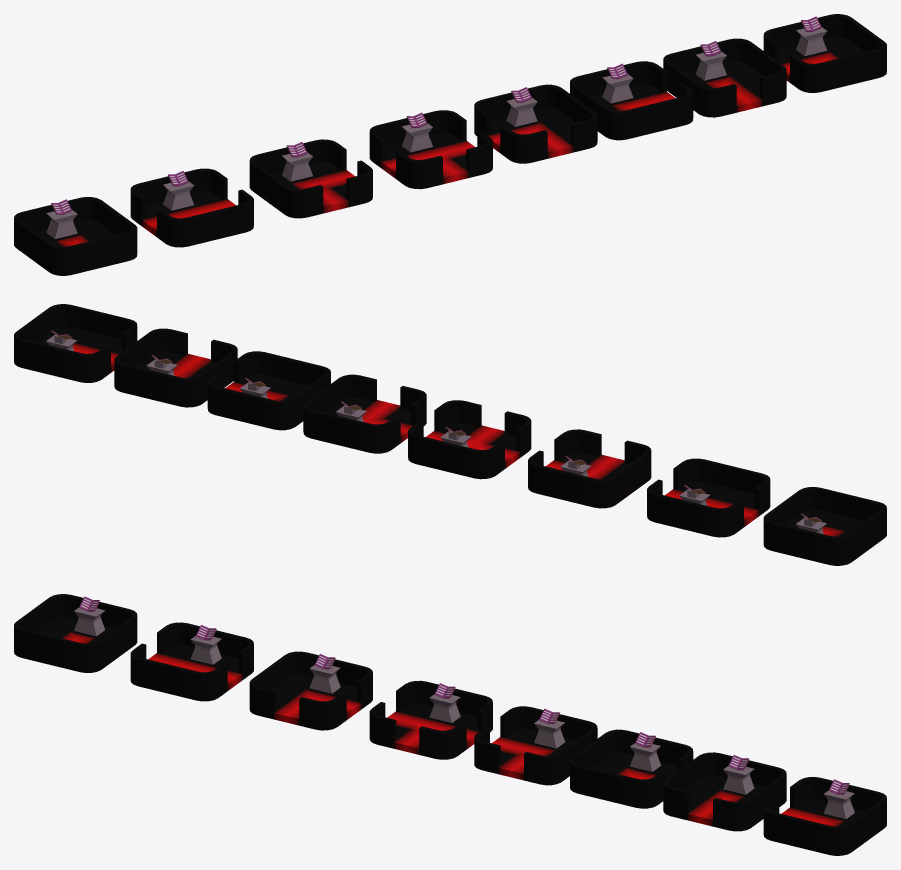
File: finish_room_variants.fbx
The picture shows the model from 3 angles, top to bottom: view 1: azimuth 30°, elevation 25°; view 2: azimuth 150°, elevation 25°; view 3: azimuth 330°, elevation 25°; orthographic projection.
Visible parts, largest first — view 1: null_finish_room, Le_Do_finish_room, Ri_Do_finish_room, St_finish_room, T_finish_room, Left_finish_room, Down_finish_room, Right_finish_room; view 2: null_finish_room, St_finish_room, Left_finish_room, Le_Do_finish_room, Ri_Do_finish_room, T_finish_room, Right_finish_room, Down_finish_room; view 3: Ri_Do_finish_room, null_finish_room, Down_finish_room, St_finish_room, Left_finish_room, T_finish_room, Right_finish_room, Le_Do_finish_room.
Part boxes in pixels (x1,y1,x2,y2): null_finish_room: (14, 197, 137, 275); Le_Do_finish_room: (474, 84, 597, 163); Ri_Do_finish_room: (249, 139, 372, 218); St_finish_room: (130, 168, 253, 247); T_finish_room: (369, 110, 492, 189); Left_finish_room: (763, 14, 886, 92); Down_finish_room: (663, 38, 786, 117); Right_finish_room: (570, 61, 693, 140); null_finish_room: (763, 487, 886, 565); St_finish_room: (647, 458, 770, 537); Left_finish_room: (14, 304, 137, 382); Le_Do_finish_room: (303, 374, 426, 453); Ri_Do_finish_room: (528, 429, 651, 508); T_finish_room: (408, 400, 531, 479); Right_finish_room: (207, 351, 330, 430); Down_finish_room: (114, 328, 237, 407); Ri_Do_finish_room: (249, 651, 372, 730); null_finish_room: (14, 594, 137, 672); Down_finish_room: (663, 752, 786, 831); St_finish_room: (130, 622, 253, 701); Left_finish_room: (763, 777, 886, 855); T_finish_room: (369, 680, 492, 759); Right_finish_room: (570, 729, 693, 808); Le_Do_finish_room: (474, 706, 597, 785).
Bounding box in the file's own units: 975 × 41.18 × 100.
